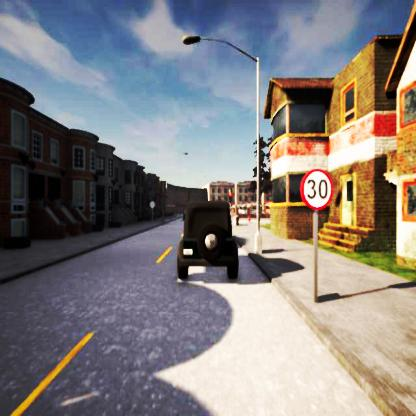vehicle: (176, 200, 238, 280)
